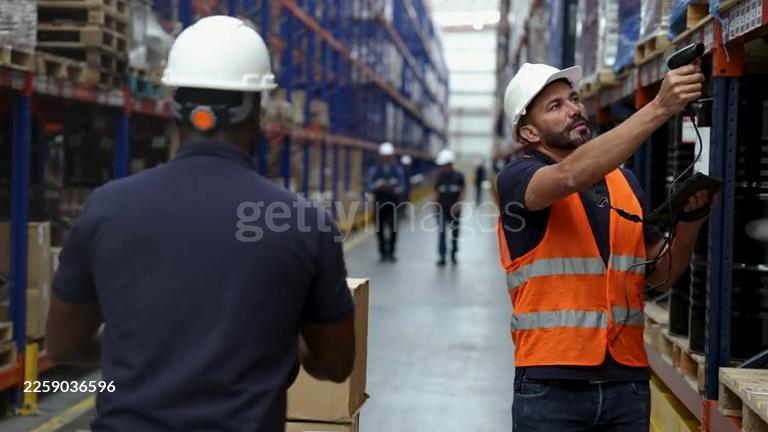helmet: (161, 17, 278, 91), (503, 63, 582, 132), (436, 147, 454, 165), (377, 142, 396, 156)
person: (45, 15, 356, 427), (493, 59, 718, 432), (363, 141, 409, 263), (429, 147, 466, 268)
